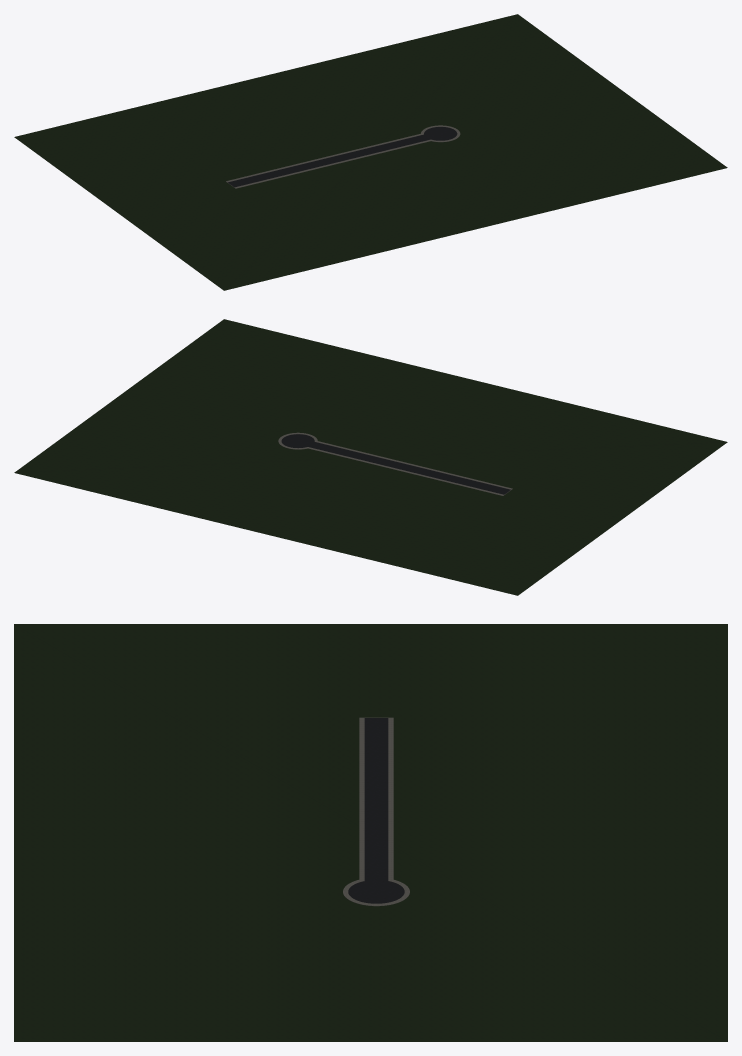
File: JBR_Terrain.glb
The picture shows the model from 3 angles, top to bottom: view 1: azimuth 30°, elevation 25°; view 2: azimuth 150°, elevation 25°; view 3: azimuth 270°, elevation 25°; orthographic projection. The views are drawn at different scales.
Size of the model in its own units: 360 by 0.14 by 260.
3 materials, 3 textured.
